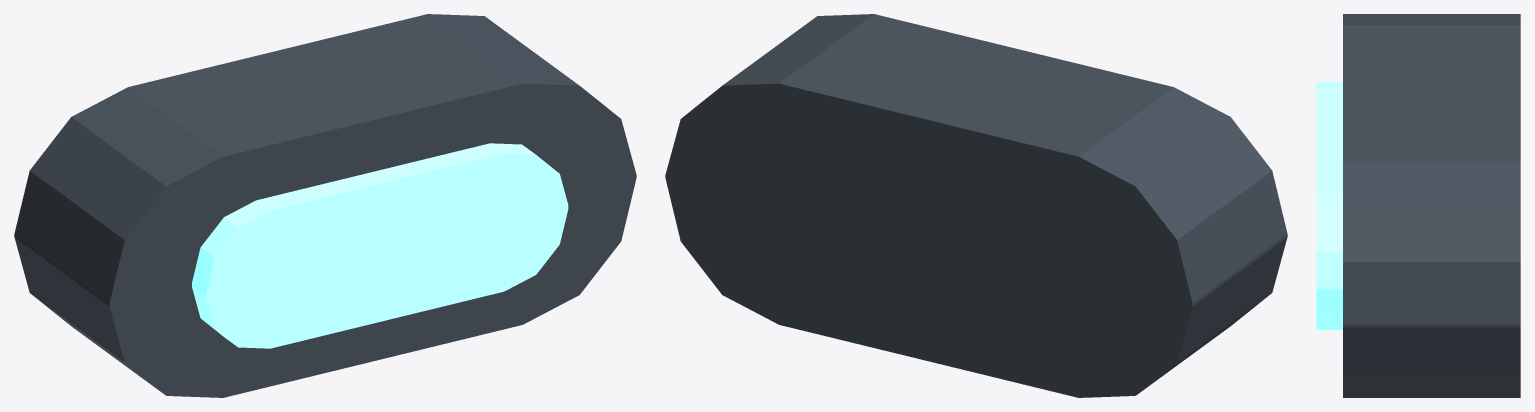
The model's file is Signal_Lamp.gltf.
The picture shows the model from 3 angles, left to right: view 1: azimuth 30°, elevation 25°; view 2: azimuth 150°, elevation 25°; view 3: azimuth 270°, elevation 25°; orthographic projection. The views are drawn at different scales.
Parts seen in each view (by area): view 1: Signal_Lamp_baked; view 2: Signal_Lamp_baked; view 3: Signal_Lamp_baked.
Part boxes in pixels (x1,y1,x2,y2): Signal_Lamp_baked: (14, 14, 636, 397); Signal_Lamp_baked: (665, 14, 1287, 397); Signal_Lamp_baked: (1316, 14, 1520, 397).
Size of the model in its own units: 0.32 by 0.14 by 0.115.
